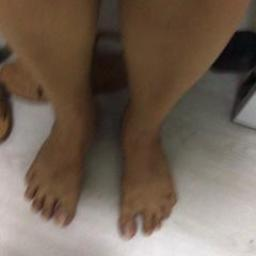Dorsal View -Both Feet-: (18, 77, 190, 241)
